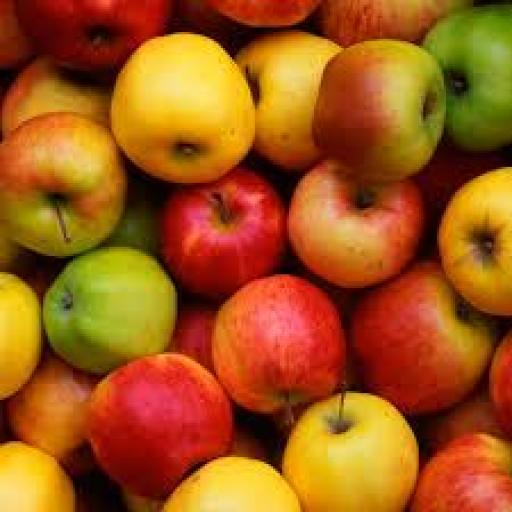Apple: (349, 261, 498, 413), (112, 32, 254, 182), (89, 355, 232, 498), (312, 39, 446, 182), (212, 275, 345, 413), (0, 112, 127, 255), (287, 160, 425, 287), (44, 247, 177, 374), (160, 167, 286, 297), (283, 391, 418, 511), (237, 30, 341, 171), (424, 5, 511, 150), (437, 167, 511, 315), (7, 352, 97, 473), (3, 58, 111, 137), (410, 432, 511, 511)
